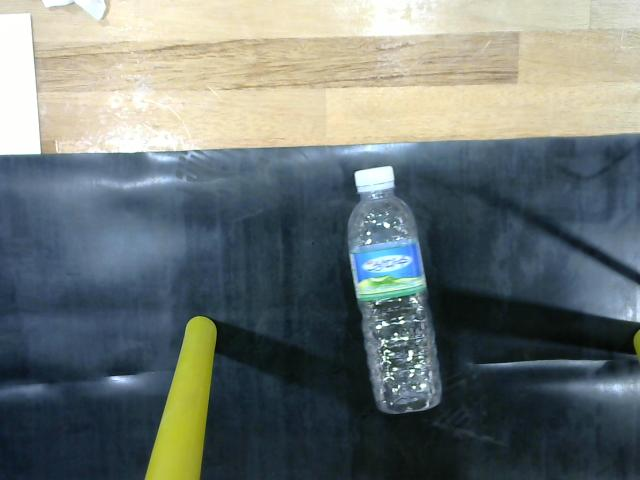bottle: (335, 157, 444, 420)
